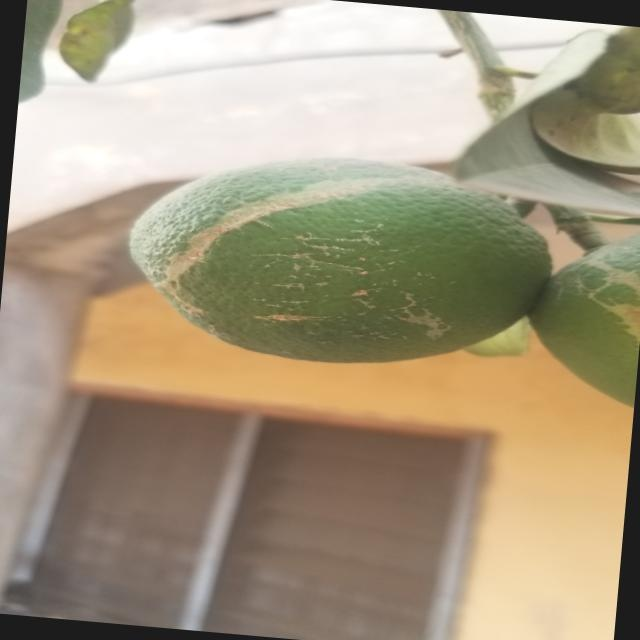agrume: (128, 142, 556, 378), (493, 206, 640, 409)
